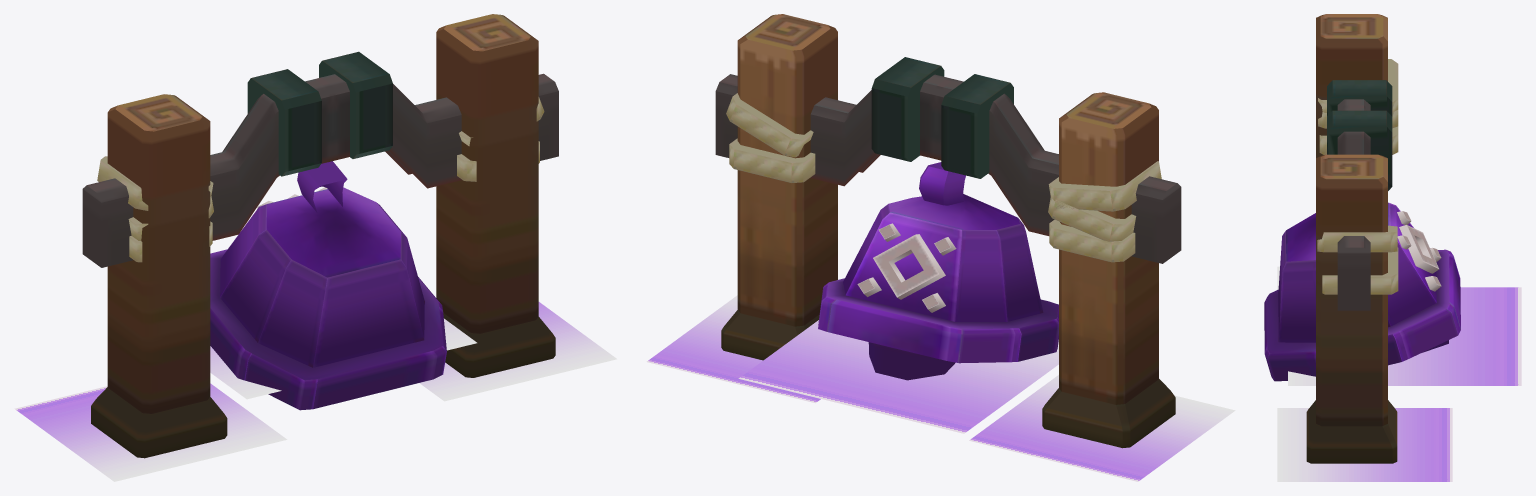
Rendered from [gimmick]bell_purple.fbx.
The picture shows the model from 3 angles, left to right: view 1: azimuth 30°, elevation 25°; view 2: azimuth 150°, elevation 25°; view 3: azimuth 270°, elevation 25°; orthographic projection. The views are drawn at different scales.
Visible parts, largest first — view 1: [gimmick]bell_purple, bell_purple, shadow2, shadow1, shadow; view 2: [gimmick]bell_purple, bell_purple, shadow, shadow2, shadow1; view 3: [gimmick]bell_purple, bell_purple, shadow, shadow1.
Part boxes in pixels (box(x1,y1,x2,y2)): [gimmick]bell_purple: box(82, 14, 558, 458); bell_purple: box(210, 161, 446, 410); shadow2: box(14, 383, 287, 481); shadow1: box(419, 302, 616, 401); shadow: box(210, 318, 476, 399); [gimmick]bell_purple: box(715, 14, 1181, 448); bell_purple: box(818, 162, 1058, 380); shadow: box(738, 320, 1058, 433); shadow2: box(969, 375, 1235, 481); shadow1: box(646, 295, 820, 403); [gimmick]bell_purple: box(1306, 14, 1398, 463); bell_purple: box(1264, 202, 1460, 381); shadow: box(1288, 287, 1521, 385); shadow1: box(1277, 408, 1452, 481).
Bounding box in the file's own units: 2.61 × 1.59 × 1.32.
